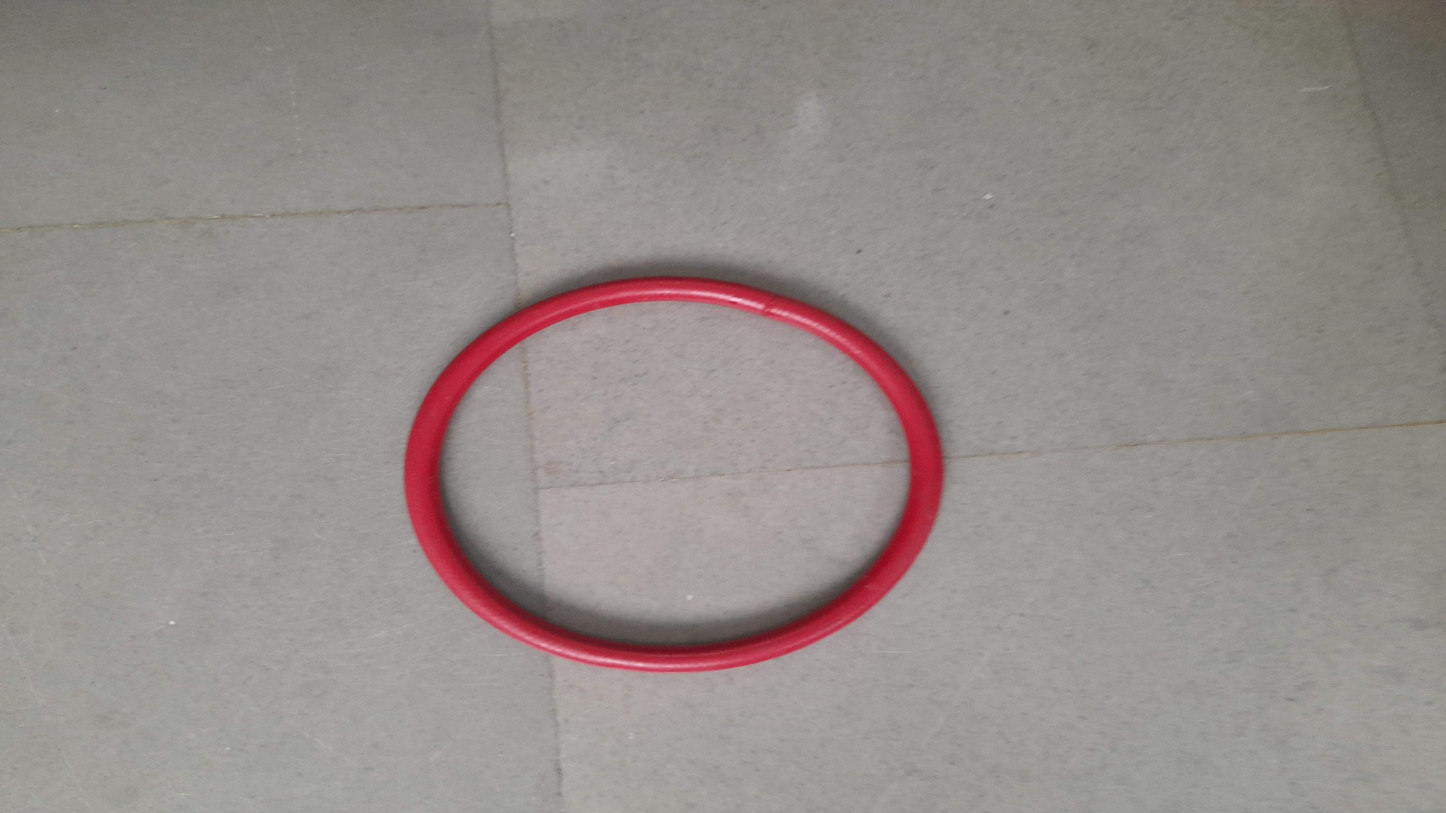Red ring: (404, 275, 946, 673)
